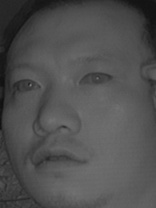eye: (77, 68, 113, 91), (11, 75, 44, 96)
mouth: (27, 142, 90, 178)
